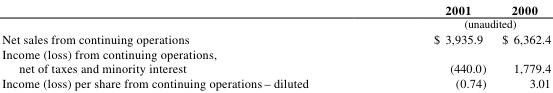table: (1, 0, 550, 90)
table column: (1, 0, 370, 90), (370, 0, 493, 90), (493, 0, 550, 90)
table column header: (1, 0, 550, 30)
table row: (1, 45, 550, 74), (1, 0, 550, 16), (1, 74, 550, 90), (1, 30, 550, 45), (1, 16, 550, 30)
table spanning cell: (370, 16, 550, 30)
